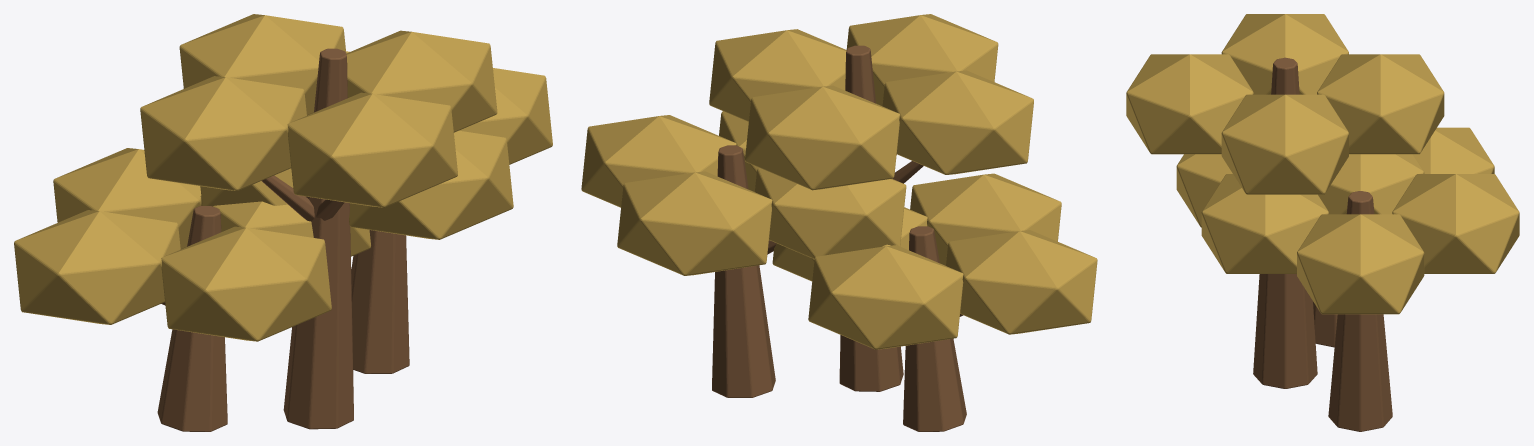
File: biome_amberwood.glb
The picture shows the model from 3 angles, left to right: view 1: azimuth 30°, elevation 25°; view 2: azimuth 150°, elevation 25°; view 3: azimuth 270°, elevation 25°; orthographic projection. The views are drawn at different scales.
Visible parts, largest first — view 1: AmberCanopy, AncientTrunk; view 2: AmberCanopy, AncientTrunk; view 3: AmberCanopy, AncientTrunk.
Part boxes in pixels (x1,y1,x2,y2): AmberCanopy: (14, 14, 552, 341); AncientTrunk: (157, 48, 409, 431); AmberCanopy: (581, 14, 1097, 349); AncientTrunk: (712, 45, 966, 431); AmberCanopy: (1126, 14, 1519, 314); AncientTrunk: (1253, 57, 1392, 431).
Size of the model in its own units: 11 by 7.1 by 7.84.
